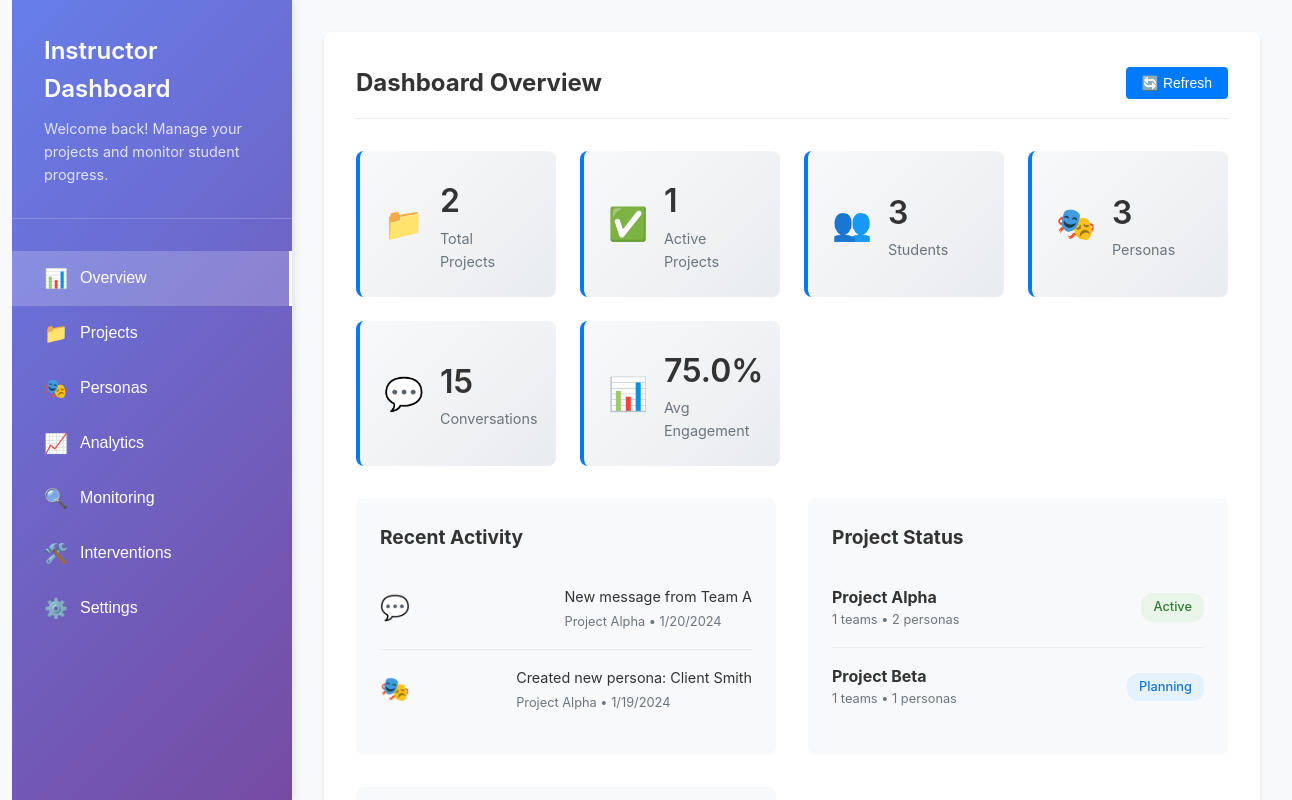
Test: InstructorDashboard › Navigation › should switch to projects view when projects is clicked
Expected: the heading "Instructor Dashboard" is shown, [44,36,171,103]
What coordinates should you click on to do the following:
click the button "📁 Projects"
I would click on:
 (109, 333)
Its box is [12,306,292,361].
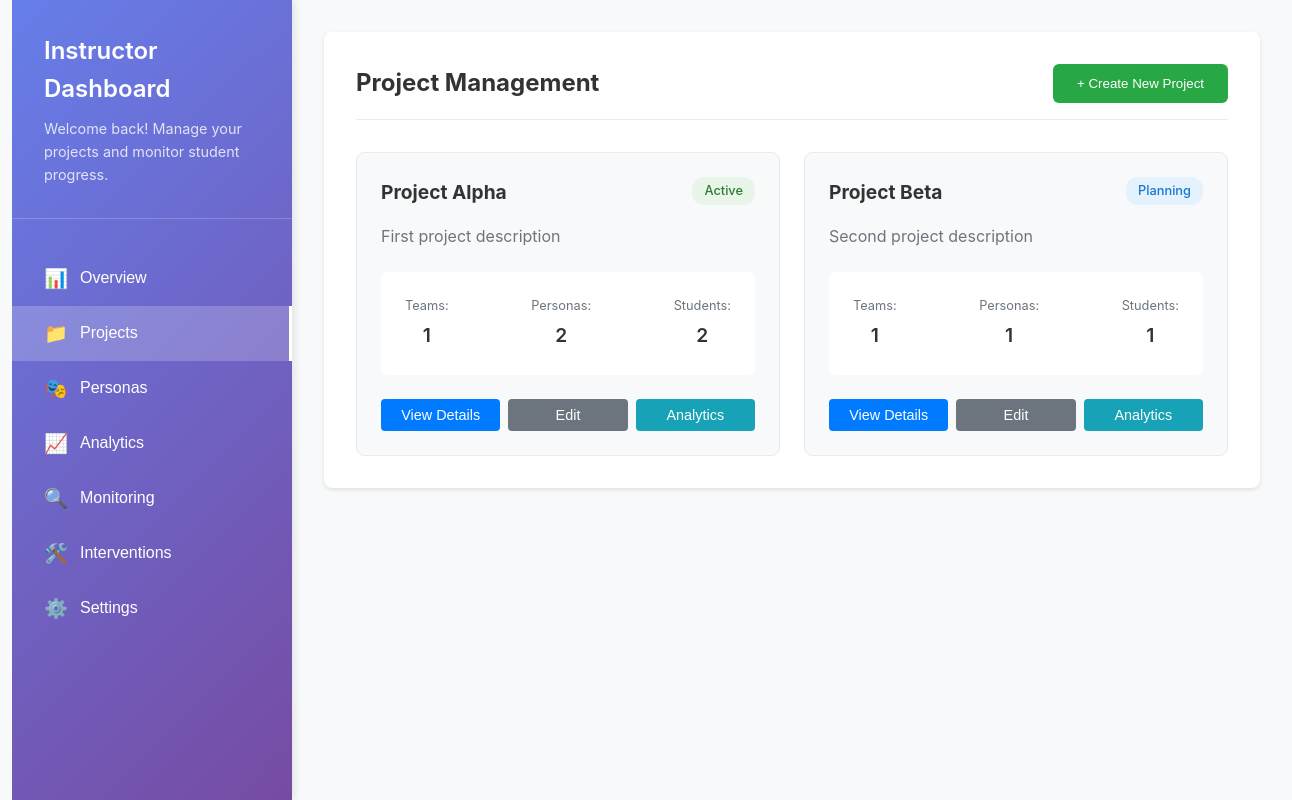
Result: the heading "Project Management" is shown at [356,64,599,103]
Result: the button "+ Create New Project" is shown at [1053,64,1228,103]
